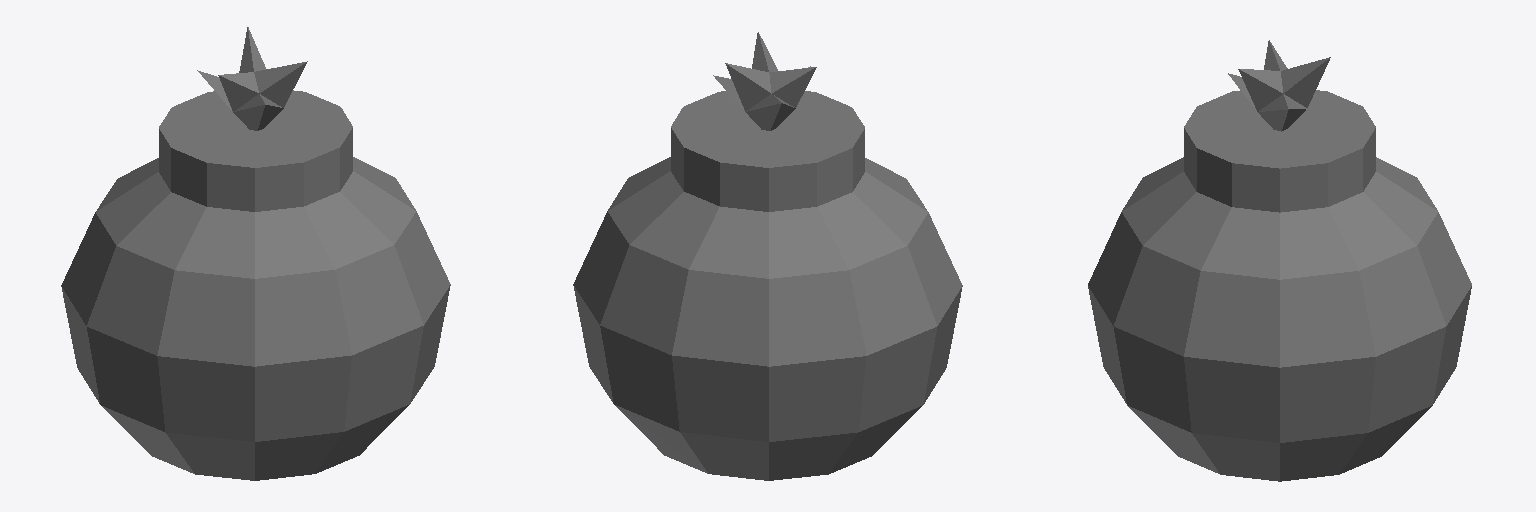
Rendered from AquaBomb.obj.
3 renders of one model, left to right at view 1: azimuth 30°, elevation 25°; view 2: azimuth 150°, elevation 25°; view 3: azimuth 270°, elevation 25°, orthographic.
Visible parts, largest first — view 1: Mesh.104_DrawCall_110; view 2: Mesh.104_DrawCall_110; view 3: Mesh.104_DrawCall_110.
Part boxes in pixels (left/top/right/bottom): Mesh.104_DrawCall_110: left=61, top=27, right=450, bottom=480; Mesh.104_DrawCall_110: left=573, top=32, right=962, bottom=480; Mesh.104_DrawCall_110: left=1088, top=40, right=1471, bottom=481.
Bounding box in the file's own units: 0.7508 × 0.8788 × 0.7381.